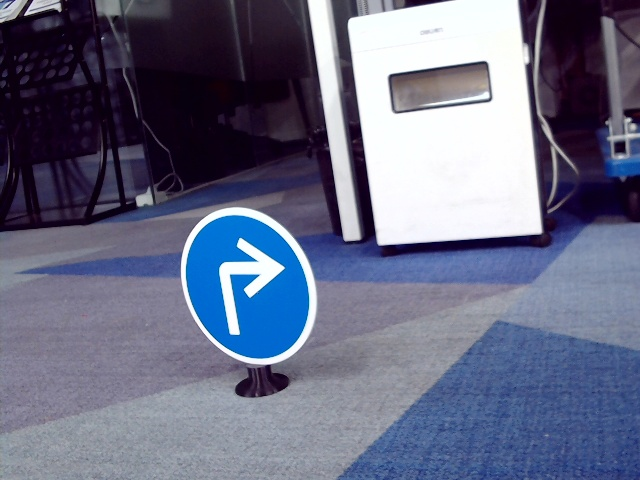turn_right: (212, 230, 284, 337)
